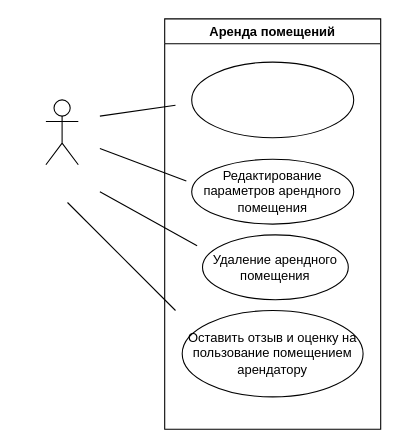
This 400x448 diagram has some shape labels left out. Each missing label, with the centre of its shape:
Арендодатель: the point at 61,132
Размещение помещения для аренды: the point at 272,99
